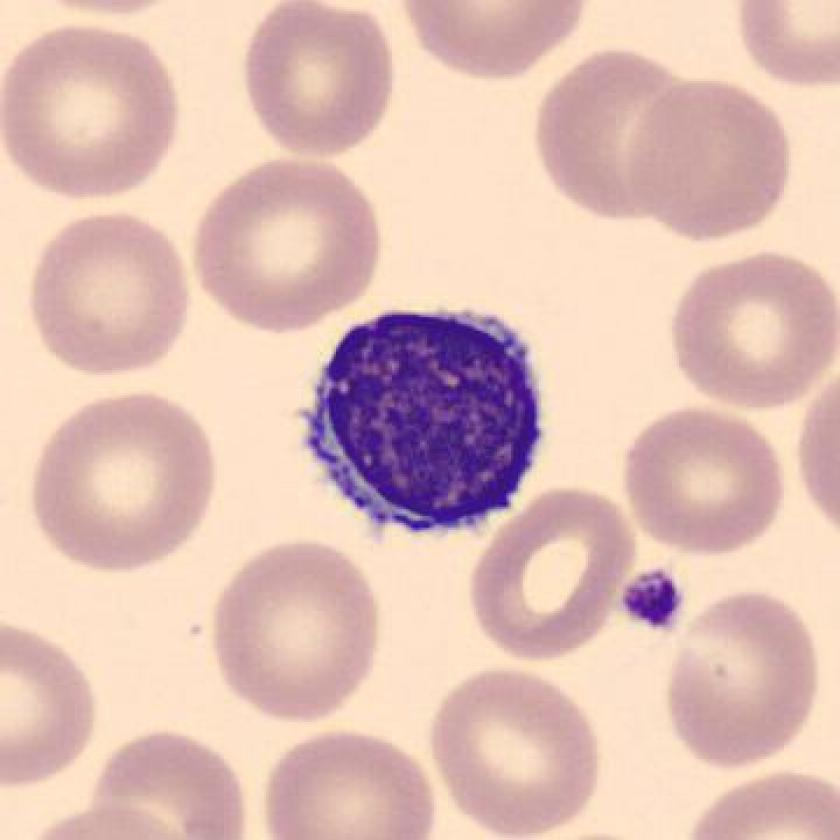lymphocyte: (283, 293, 566, 552)
